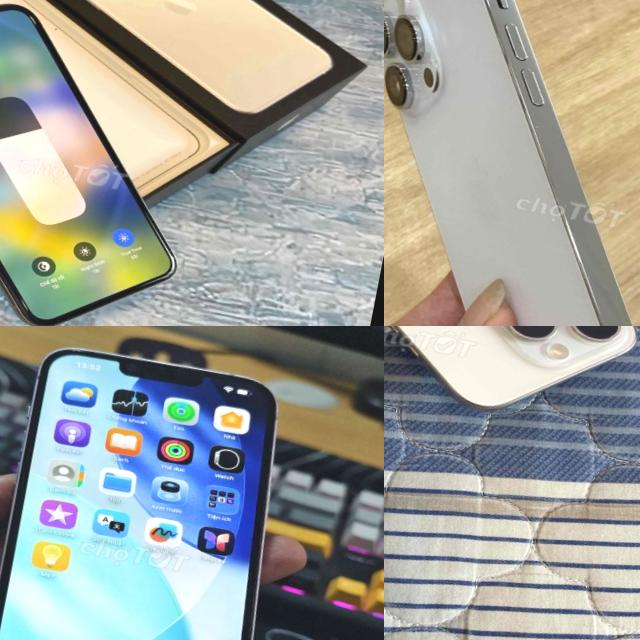gen_11: (0, 0, 226, 326)
gen_14: (0, 327, 309, 640), (384, 0, 640, 326)
gen_15: (384, 326, 640, 445)
